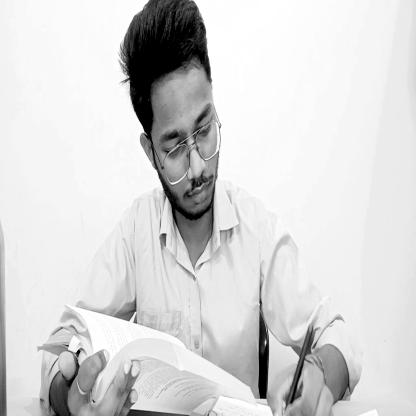Distracted: (124, 0, 228, 228)
